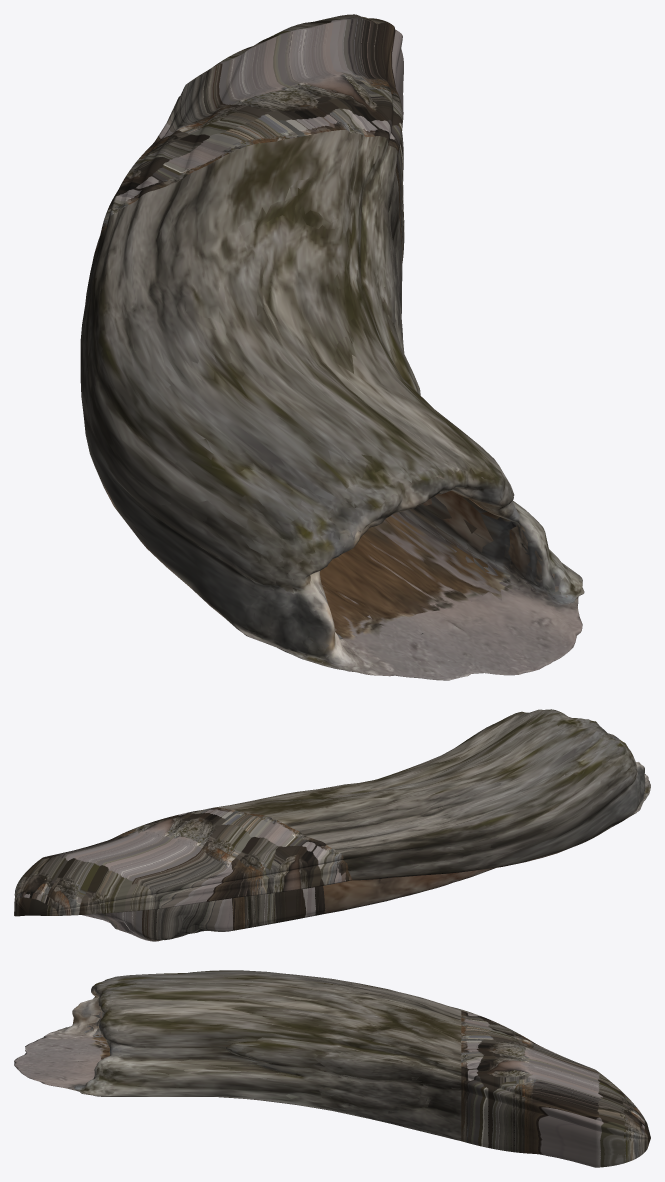
Rendered from model-r27-rounded.glb.
3 views of the same model, one above another, from view 1: azimuth 30°, elevation 25°; view 2: azimuth 150°, elevation 25°; view 3: azimuth 270°, elevation 25° (orthographic). The views are drawn at different scales.
Parts seen in each view (by area): view 1: Continuous cave shell; view 2: Continuous cave shell; view 3: Continuous cave shell.
Boxes of the visible parts, x1,y1,x2,y2 form: Continuous cave shell: [80, 14, 584, 680]; Continuous cave shell: [14, 709, 650, 941]; Continuous cave shell: [14, 970, 650, 1167].
Bounding box in the file's own units: 35.39 × 9.1 × 60.81.
1 material, 1 textured.
